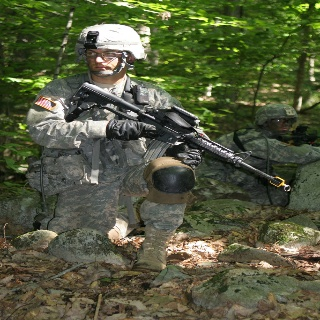rifle: (65, 80, 292, 194)
